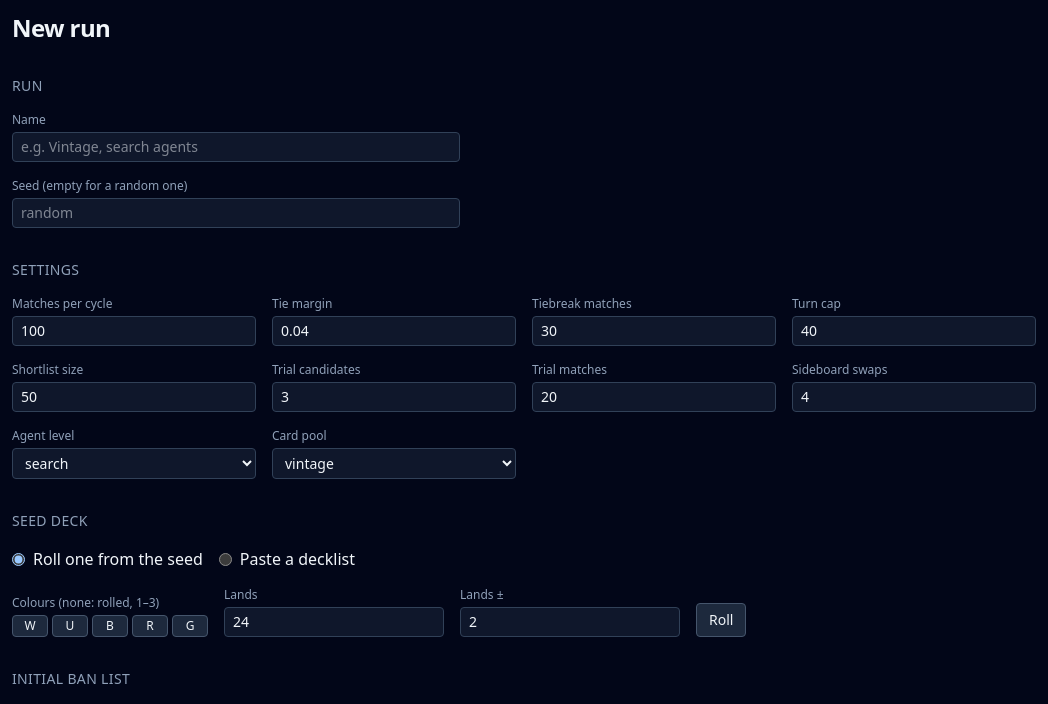
Test case: the new-run form › previews a seed typed in, rolls a new one on request, and warns when the preview is stale
The width and height of the screenshot is (1048, 704).
Type "99" into the field labelled "Seed (empty for a random one)". click: (236, 213)
box: [12,198,460,228]
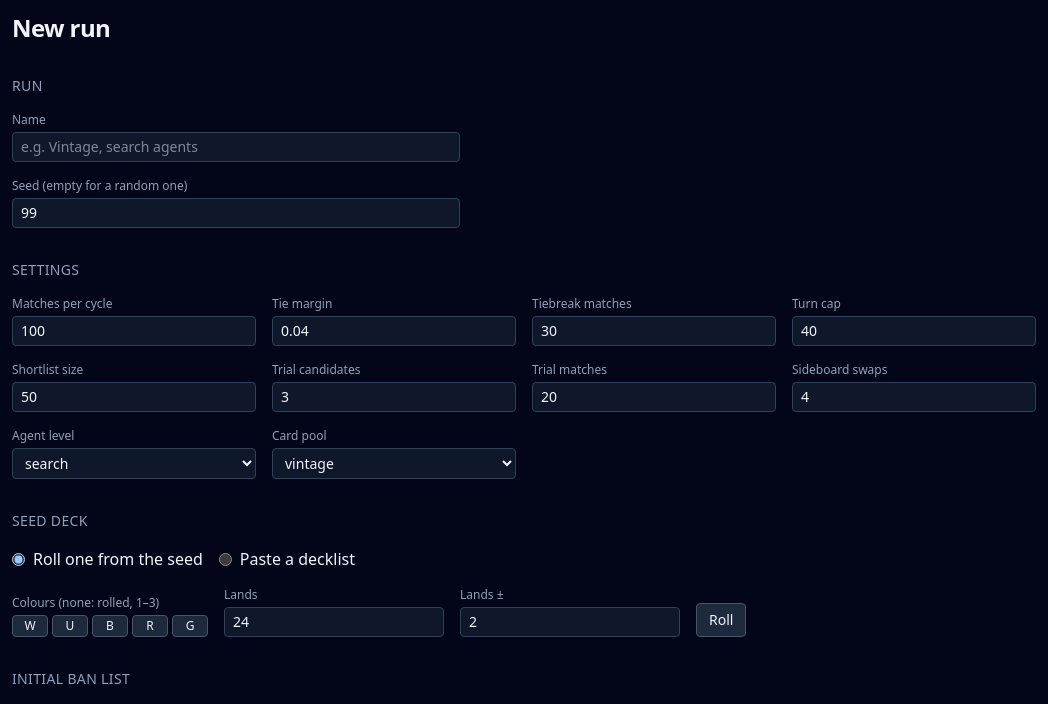
Click the button "Roll". click: click(721, 620)
box: [696,603,746,637]
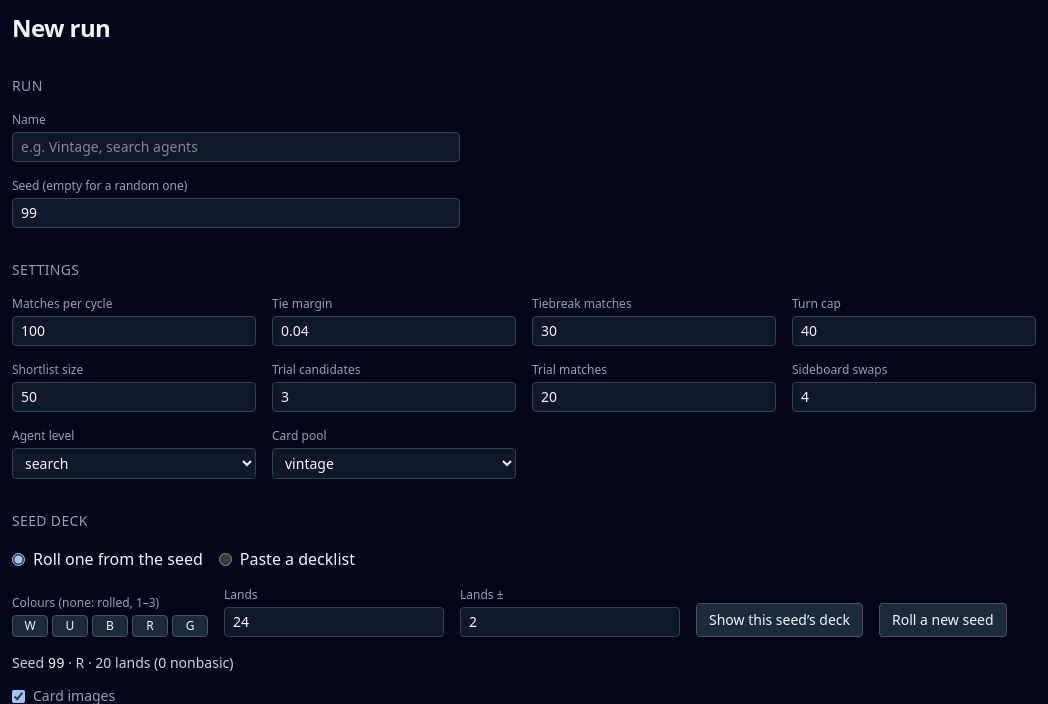
Expected: the text "99" is shown, [48,656,64,672]
Replace the text in the number field labelled "Lands" with "17". click: (334, 622)
box: [224,607,444,637]
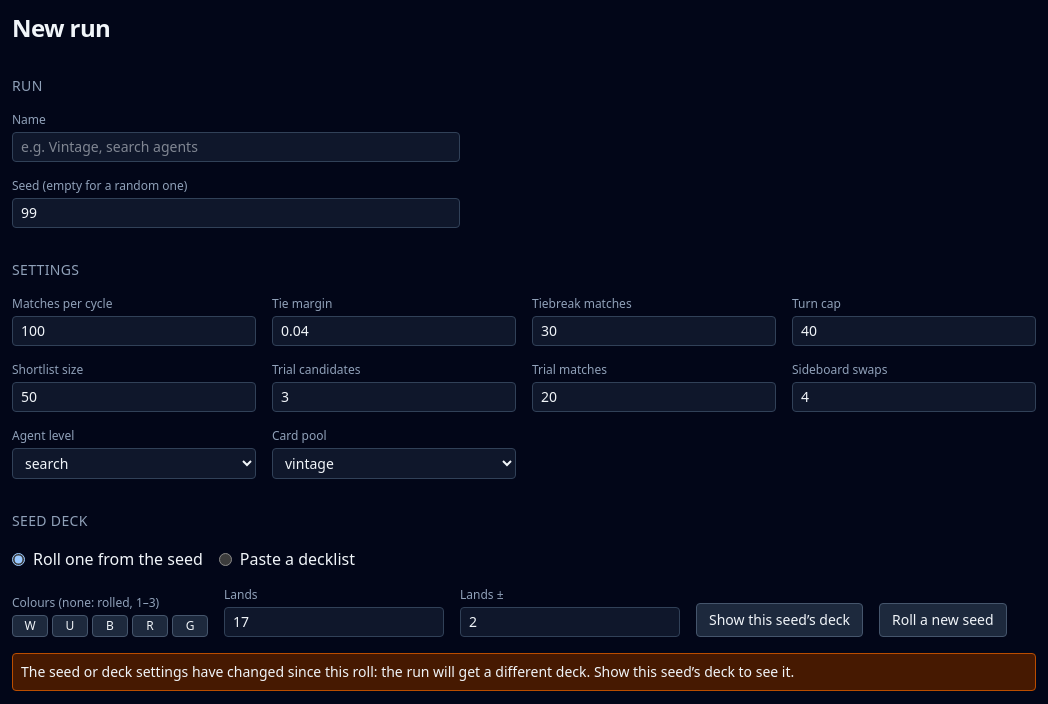
Expected: the message shows "the run will get a different deck", [21,662,794,681]
Replace the text in the number field labelled "Lands" with "24". click: (334, 622)
box: [224,607,444,637]
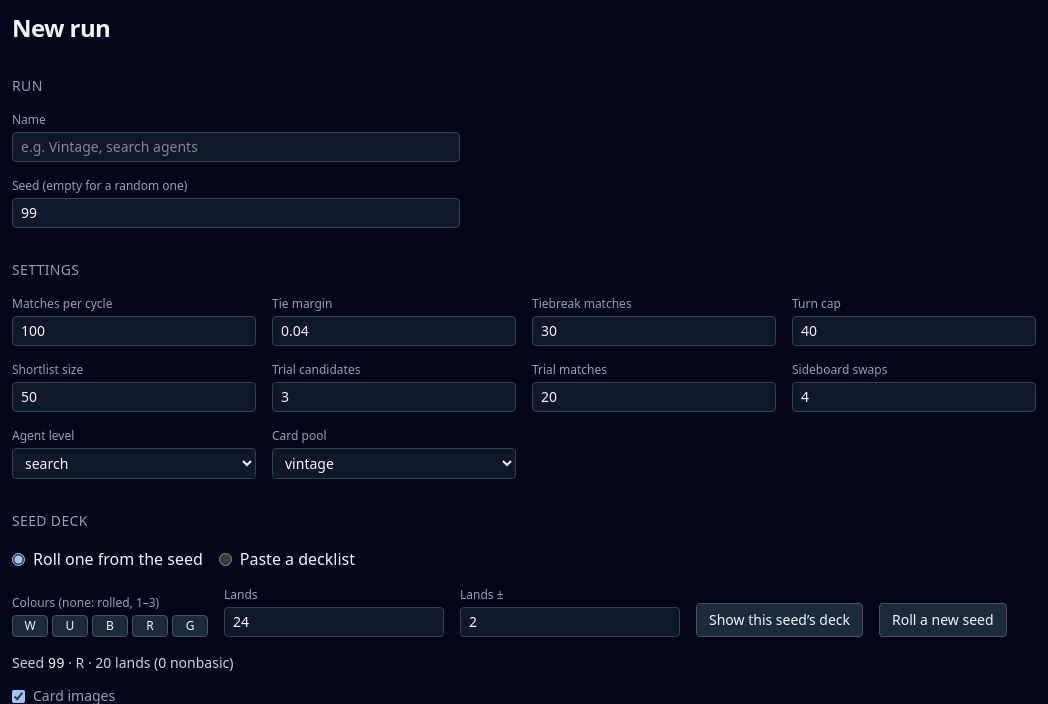
Expected: the message is gone
Click the button "Roll a new seed". click: click(943, 620)
box: [879,603,1007,637]
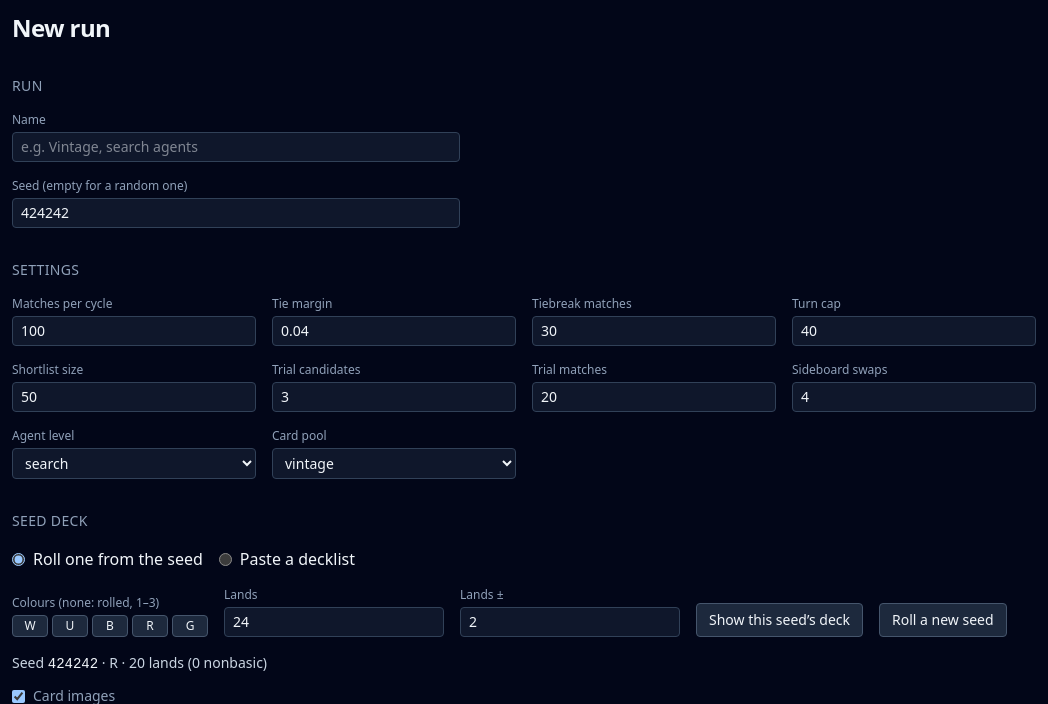
Expected: the field labelled "Seed (empty for a random one)" holds "424242", [12,198,460,228]
